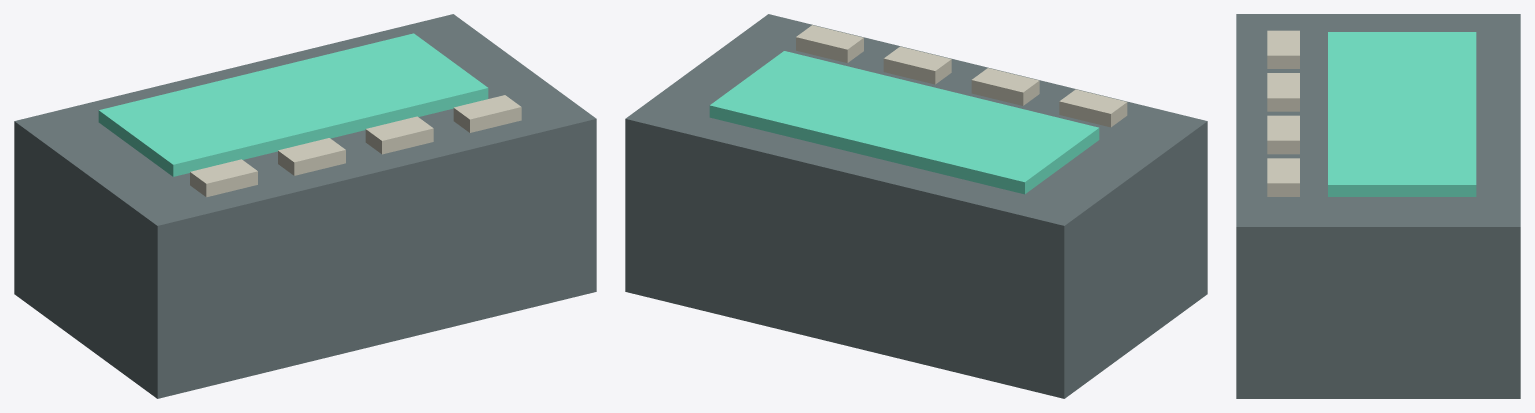
The model's file is console.glb.
3 views of the same model, side by side, from view 1: azimuth 30°, elevation 25°; view 2: azimuth 150°, elevation 25°; view 3: azimuth 270°, elevation 25° (orthographic).
Visible parts, largest first — view 1: body, screen, key_2, key_3, key_1, key_0; view 2: body, screen, key_0, key_1, key_2, key_3; view 3: body, screen, key_2, key_0, key_1, key_3.
Boxes of the visible parts, bbox=[...] form: body: bbox=[14, 14, 596, 398]; screen: bbox=[98, 33, 488, 176]; key_2: bbox=[365, 116, 433, 154]; key_3: bbox=[453, 95, 521, 132]; key_1: bbox=[278, 138, 345, 175]; key_0: bbox=[190, 159, 257, 197]; body: bbox=[625, 14, 1207, 398]; screen: bbox=[709, 51, 1099, 194]; key_0: bbox=[1059, 89, 1127, 127]; key_1: bbox=[971, 68, 1039, 105]; key_2: bbox=[883, 46, 951, 84]; key_3: bbox=[796, 25, 863, 62]; body: bbox=[1236, 14, 1520, 398]; screen: bbox=[1328, 32, 1476, 196]; key_2: bbox=[1267, 115, 1299, 154]; key_0: bbox=[1267, 30, 1299, 68]; key_1: bbox=[1267, 73, 1299, 111]; key_3: bbox=[1267, 158, 1299, 196].
Bounding box in the file's own units: 0.85 × 0.3475 × 0.48.
